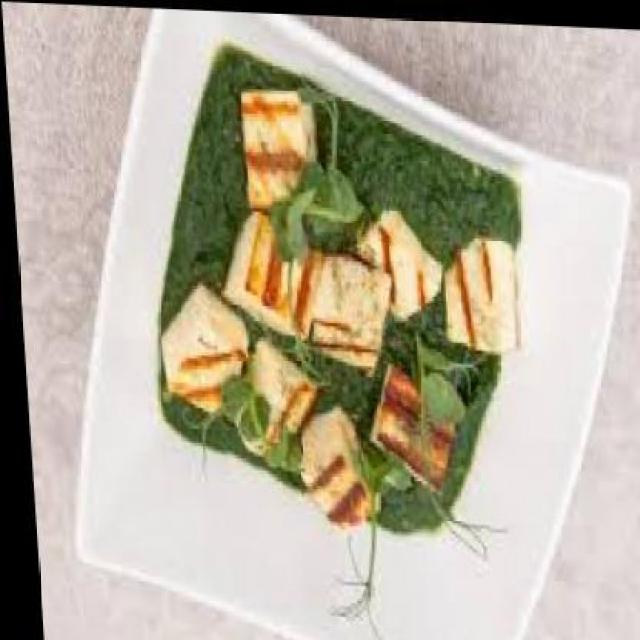palak_paneer: (132, 40, 534, 534)
